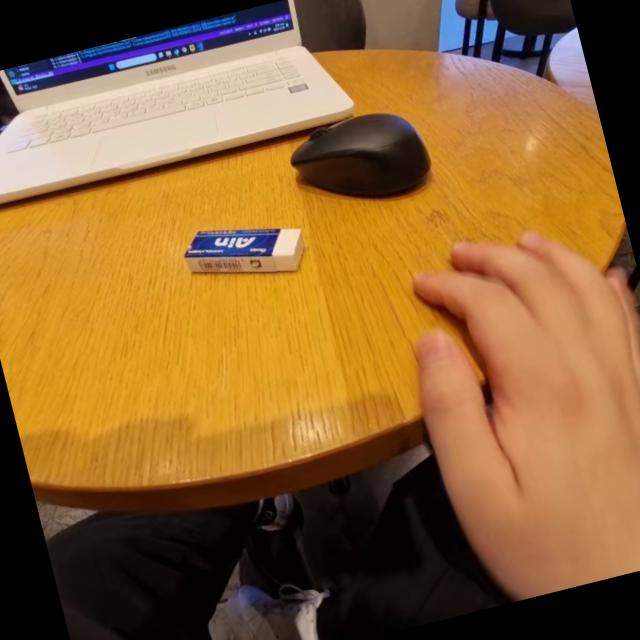eraser: (180, 199, 330, 303)
hand: (375, 192, 640, 613)
mouse: (277, 96, 453, 220)
